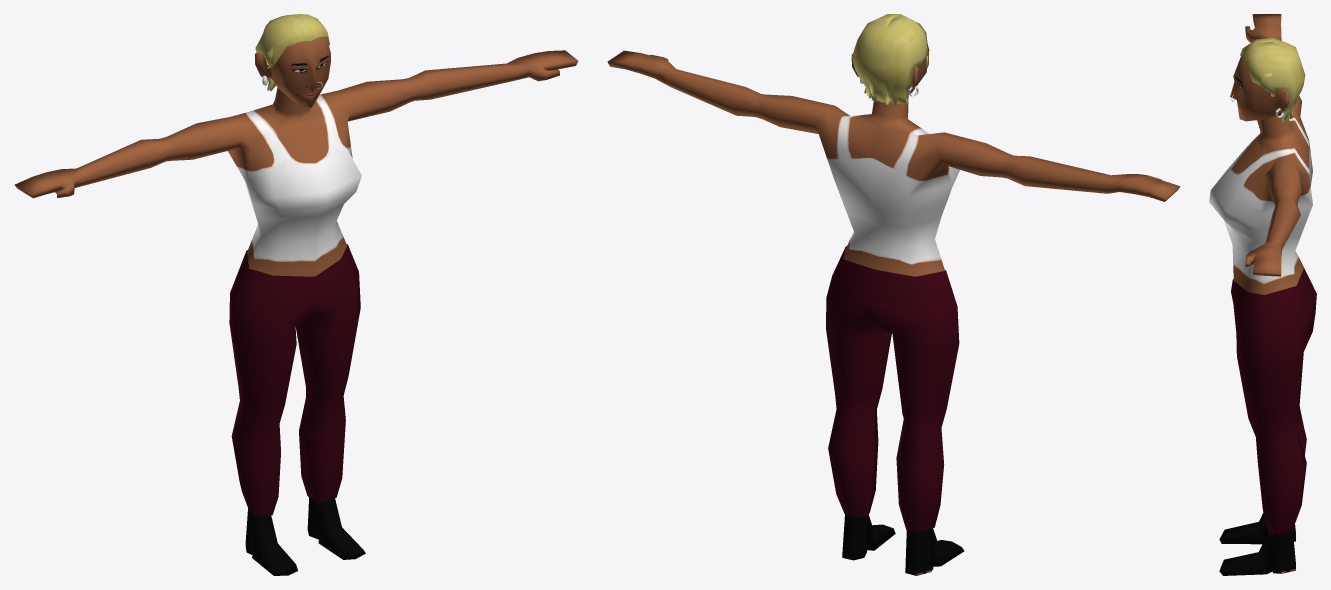
File: valeria001.fbx
3 views of the same model, side by side, from view 1: azimuth 30°, elevation 25°; view 2: azimuth 150°, elevation 25°; view 3: azimuth 270°, elevation 25° (orthographic). The views are drawn at different scales.
Parts seen in each view (by area): view 1: Body, Pants, Hair; view 2: Body, Pants, Hair; view 3: Body, Pants, Hair.
Part boxes in pixels (x1,y1,x2,y2): Body: (14, 37, 578, 575); Pants: (229, 244, 360, 517); Hair: (255, 14, 329, 91); Body: (607, 44, 1180, 575); Pants: (826, 246, 959, 531); Hair: (852, 14, 928, 104); Body: (1209, 14, 1312, 575); Pants: (1231, 254, 1316, 535); Hair: (1240, 38, 1305, 123).
Size of the model in its own units: 323 by 298 by 56.64.
3 materials, 3 textured.
